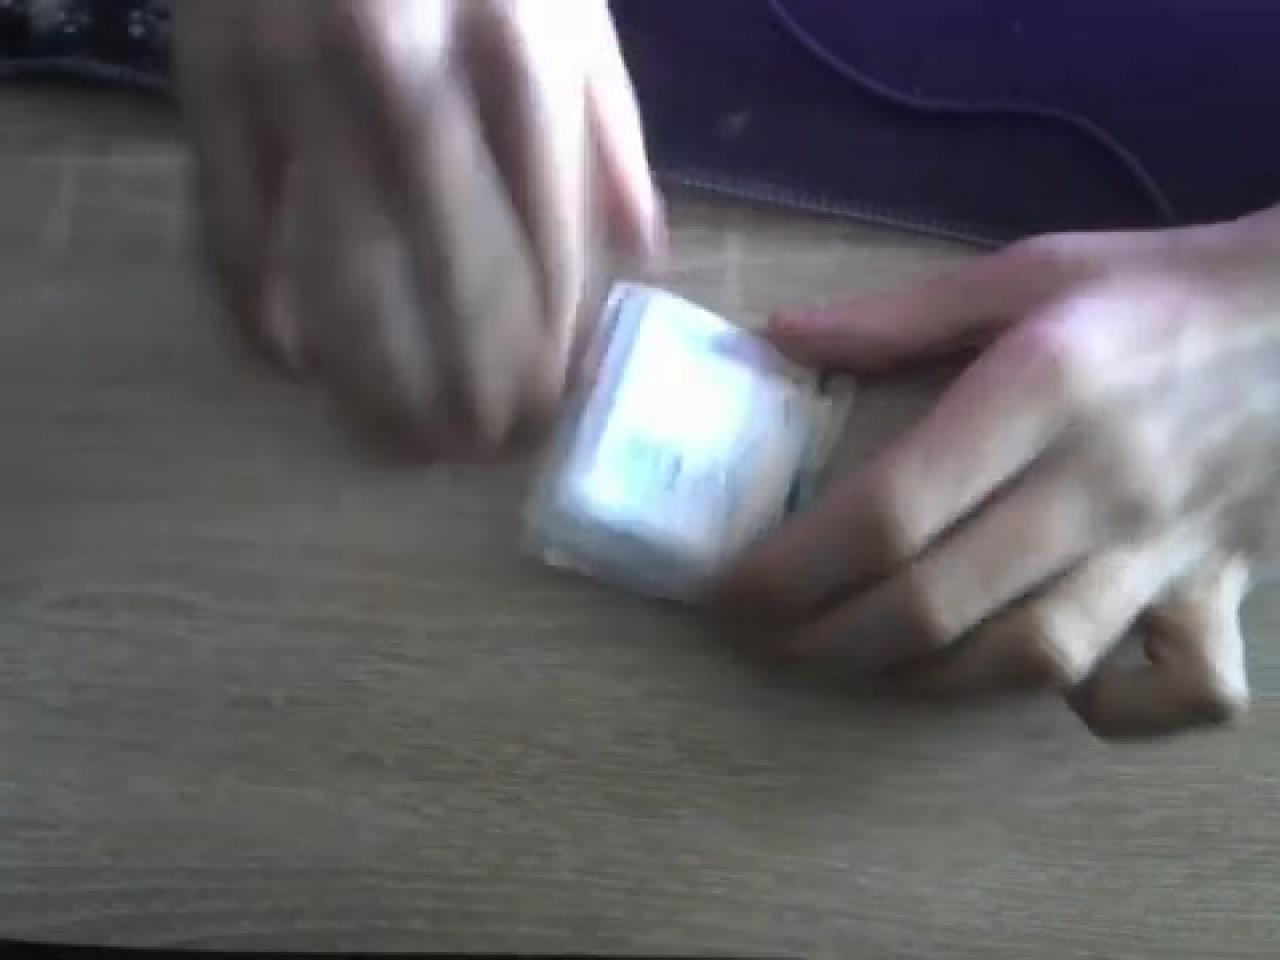20leva: (515, 282, 859, 611)
